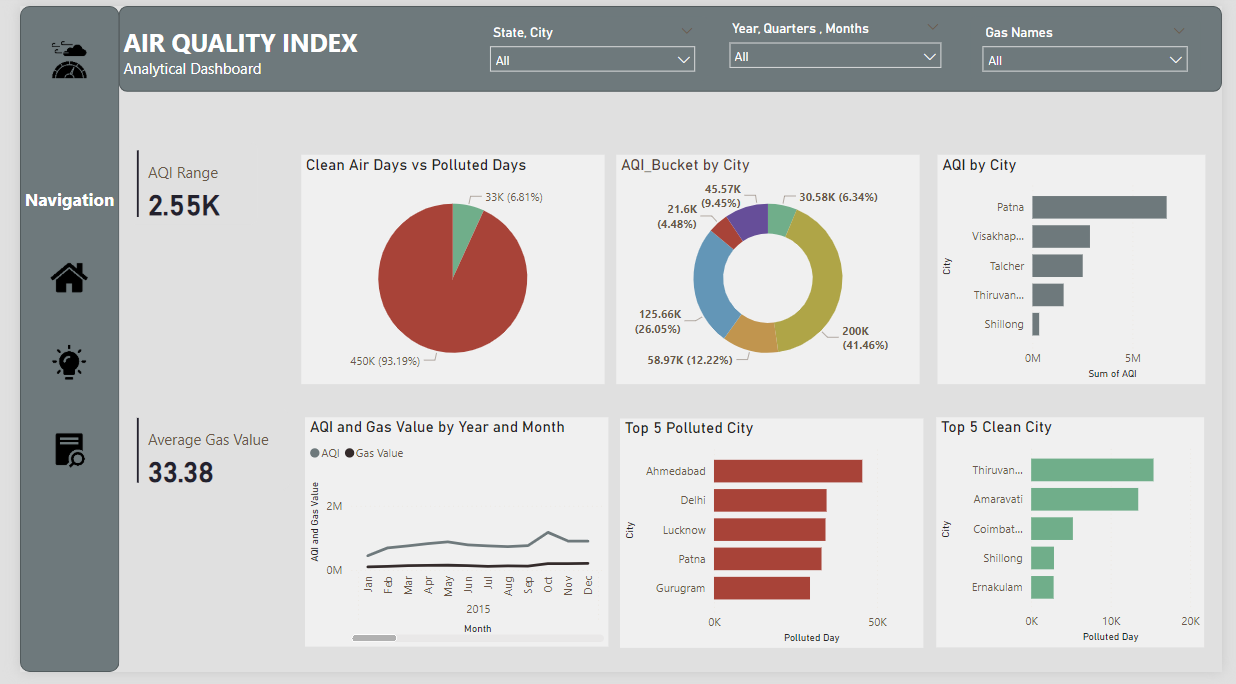

Layout of this report page (visuals, bound fields, positions):
{"tool":"powerbi","page":{"name":"Insights","canvas":[1300,720],"ordinal":1},"visuals":[{"type":"shape","box":[0,0,107.5,720],"z":0},{"type":"shape","box":[107.4,0,1192.6,92.6],"z":1000},{"type":"slicer","fields":{"Values":["air_quality.Gas Names"]},"box":[1027.2,11.1,249,70.4],"z":2000},{"type":"slicer","fields":{"Values":["Sheet1.State","Sheet1.City"]},"box":[495.1,11.1,249.4,70.4],"z":3000},{"type":"cardVisual","fields":{"Data":["measure.AQI Range"]},"box":[117.4,147.8,139.1,88.4],"z":4000},{"type":"cardVisual","fields":{"Data":["measure.Average Gas Value"]},"box":[117.4,436.2,173.9,87],"z":5000},{"type":"donutChart","title":" AQI_Bucket by City","fields":{"Series":["air_quality.AQI_Bucket"],"Y":["CountNonNull(air_quality.City)"]},"box":[644.8,160.3,328.4,248.1],"z":6000},{"type":"slicer","fields":{"Values":["Sheet1.Year","Sheet1.Quarters ","Sheet1.Months "]},"box":[756.8,11.1,249.4,70.4],"z":7000},{"type":"pieChart","title":"Clean Air Days vs Polluted Days","fields":{"Y":["measure.Clean Air Days","measure.Polluted Days"]},"box":[304.1,160.3,328,248.1],"z":8000},{"type":"image","box":[28.4,32.4,50,51.4],"z":10000},{"type":"image","box":[28.8,268.8,50,50],"z":11000},{"type":"image","box":[28.8,360,50,51.2],"z":12000},{"type":"image","box":[28.8,455,50,50],"z":13000},{"type":"textbox","box":[0,191.2,117.5,77.5],"z":14000},{"type":"clusteredBarChart","title":" AQI by City","fields":{"Category":["air_quality.City"],"Y":["Sum(air_quality.AQI)"]},"box":[991.3,160.9,289.9,247.8],"z":15000},{"type":"clusteredBarChart","title":"Top 5 Polluted City","fields":{"Category":["air_quality.City"],"Y":["air_quality.Polluted Day"]},"box":[648.3,445.5,328.4,248.1],"z":16000},{"type":"lineChart","fields":{"Category":["Calendar.Year","Calendar.MonthSort"],"Y":["Sum(air_quality.AQI)","Sum(air_quality.Gas Value)"]},"box":[307.6,444.3,328.4,248.1],"z":17000},{"type":"textbox","box":[107.2,15.9,276.8,84.1],"z":18000},{"type":"clusteredBarChart","title":"Top 5 Clean City","fields":{"Category":["air_quality.City"],"Y":["air_quality.Polluted Day"]},"box":[991,444.9,289.7,248.7],"z":19000}]}

Visuals, with their boxes on the page's 1300x720 design canvas (x1, y1, x2, y2). These are canvas units, not pixel positions in the 1236x684 screenshot, which may show the page scaled, cropped or inside an application window:
shape: bbox=[0, 0, 108, 720]
shape: bbox=[107, 0, 1300, 93]
slicer - air_quality.Gas Names: bbox=[1027, 11, 1276, 82]
slicer - Sheet1.State x Sheet1.City: bbox=[495, 11, 744, 82]
cardVisual - measure.AQI Range: bbox=[117, 148, 256, 236]
cardVisual - measure.Average Gas Value: bbox=[117, 436, 291, 523]
" AQI_Bucket by City" donutChart: bbox=[645, 160, 973, 408]
slicer - Sheet1.Year x Sheet1.Quarters : bbox=[757, 11, 1006, 82]
"Clean Air Days vs Polluted Days" pieChart: bbox=[304, 160, 632, 408]
image: bbox=[28, 32, 78, 84]
image: bbox=[29, 269, 79, 319]
image: bbox=[29, 360, 79, 411]
image: bbox=[29, 455, 79, 505]
textbox: bbox=[0, 191, 118, 269]
" AQI by City" clusteredBarChart: bbox=[991, 161, 1281, 409]
"Top 5 Polluted City" clusteredBarChart: bbox=[648, 446, 977, 694]
lineChart - Calendar.Year x Calendar.MonthSort: bbox=[308, 444, 636, 692]
textbox: bbox=[107, 16, 384, 100]
"Top 5 Clean City" clusteredBarChart: bbox=[991, 445, 1281, 694]
